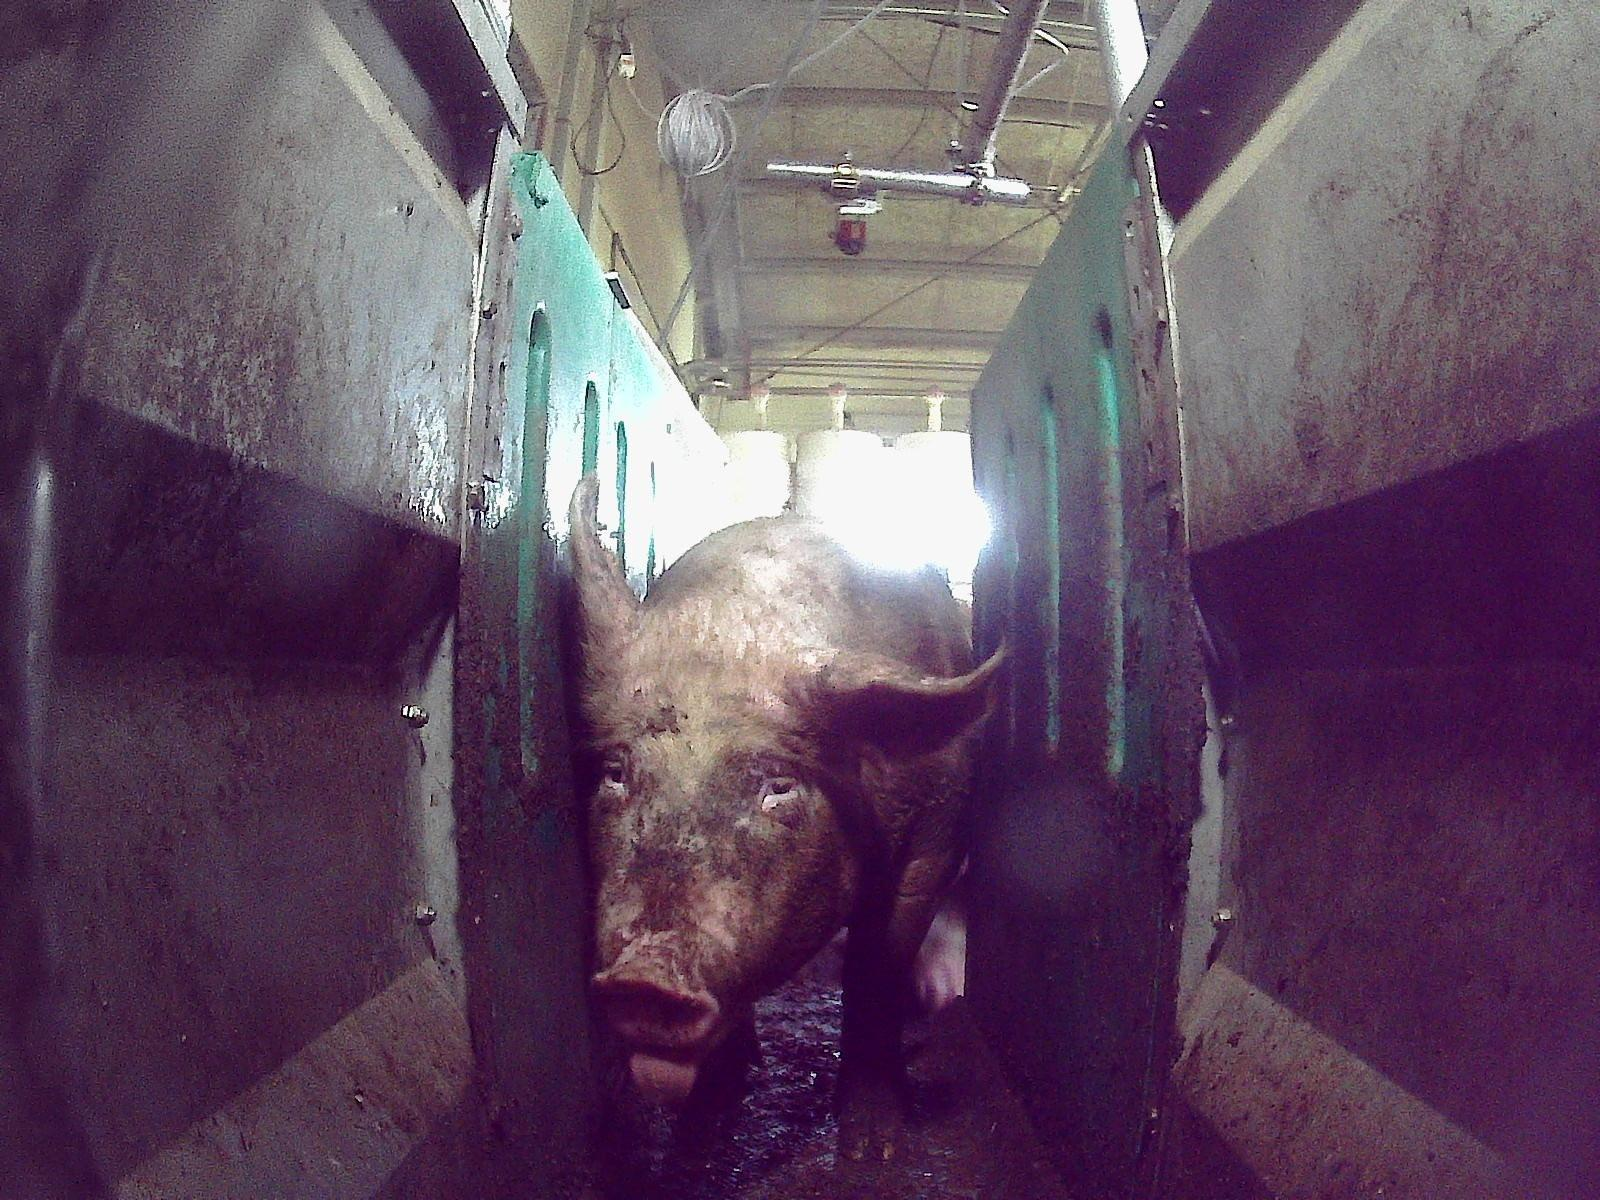Face: (581, 655, 848, 1106)
